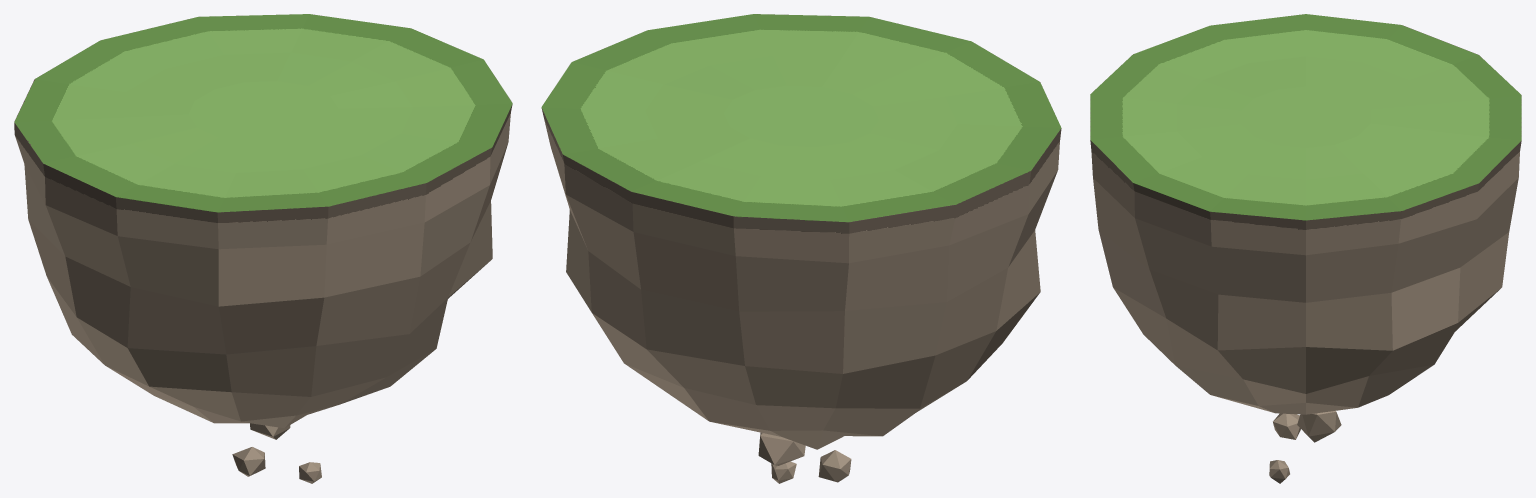
File: AST03a_Island01_Intro.glb
3 renders of one model, left to right at view 1: azimuth 30°, elevation 25°; view 2: azimuth 150°, elevation 25°; view 3: azimuth 270°, elevation 25°, orthographic. The views are drawn at different scales.
Visible parts, largest first — view 1: AST03a_Island01_Intro; view 2: AST03a_Island01_Intro; view 3: AST03a_Island01_Intro.
Part boxes in pixels (left/top/right/bottom): AST03a_Island01_Intro: left=14, top=14, right=512, bottom=483; AST03a_Island01_Intro: left=541, top=14, right=1061, bottom=483; AST03a_Island01_Intro: left=1090, top=14, right=1521, bottom=483.
Size of the model in its own units: 18 by 14.55 by 16.14.
1 material, 1 textured.
